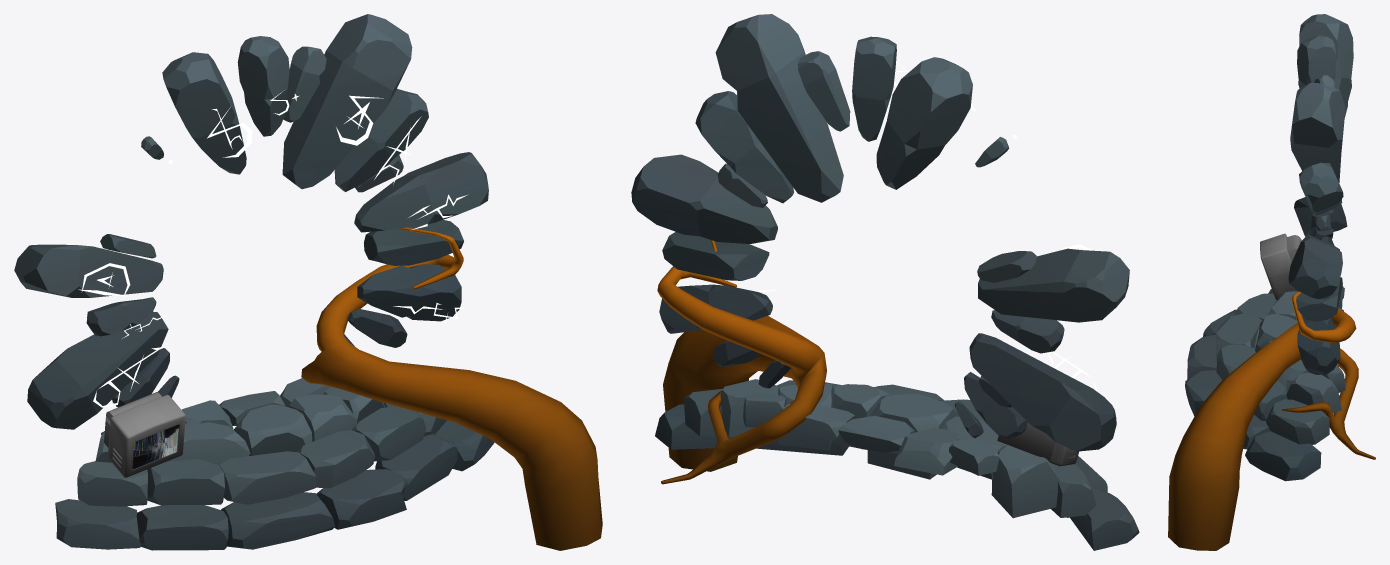
File: gate.glb
3 views of the same model, side by side, from view 1: azimuth 30°, elevation 25°; view 2: azimuth 150°, elevation 25°; view 3: azimuth 270°, elevation 25° (orthographic). The views are drawn at different scales.
Parts seen in each view (by area): view 1: rocks gate, gate tree, gate head, gate letters, head.003; view 2: rocks gate, gate tree, gate head; view 3: rocks gate, gate tree, gate head.
Part boxes in pixels (x1,y1,x2,y2): rocks gate: (14,14,494,550); gate tree: (301,227,602,550); gate head: (104,392,185,477); gate letters: (78,91,468,407); head.003: (132,424,179,469); rocks gate: (631,14,1139,550); gate tree: (657,240,826,484); gate head: (997,422,1079,466); rocks gate: (1185,14,1353,481); gate tree: (1168,291,1375,550); gate head: (1260,233,1301,299).
Size of the model in its own units: 25.89 by 24.84 by 11.3.
5 materials, 4 textured.
